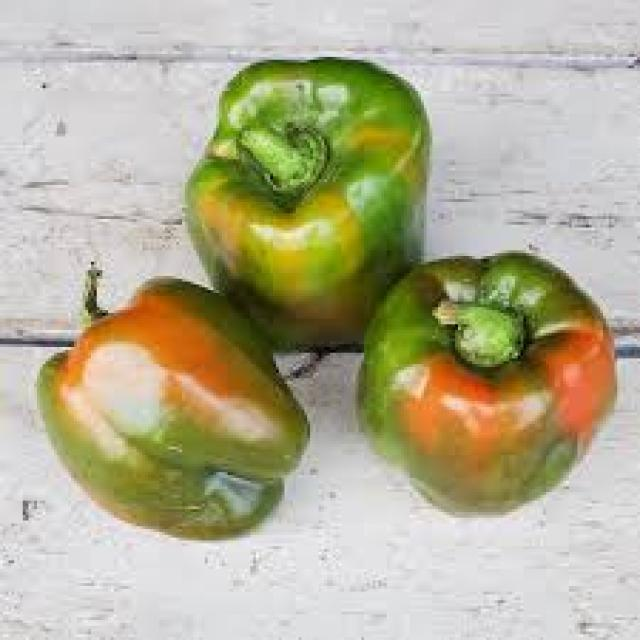bell_pepper: (27, 251, 322, 554), (340, 240, 633, 533), (171, 46, 433, 370)
